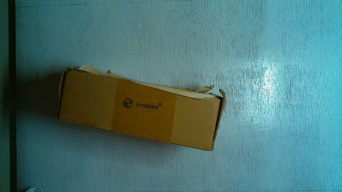a: (48, 51, 244, 164)
